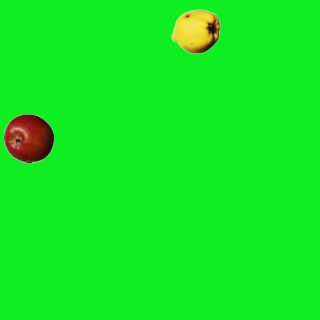Apple Braeburn: (3, 113, 53, 163)
Quince: (170, 6, 220, 56)
